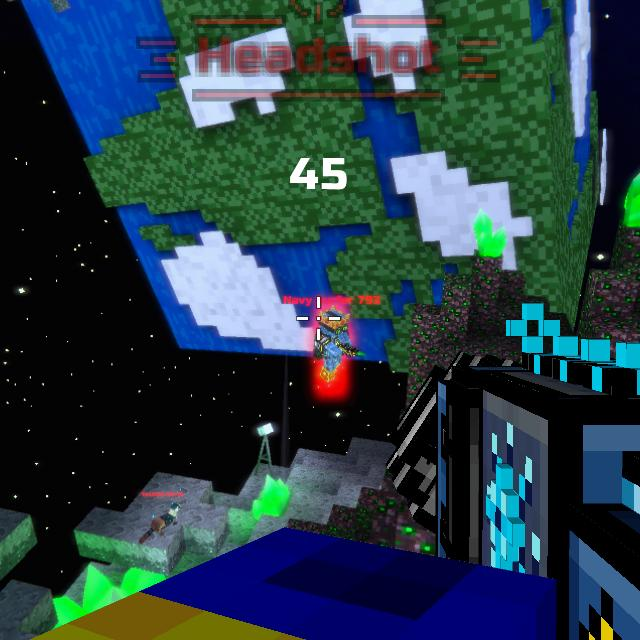Enemy: (314, 308, 351, 382)
